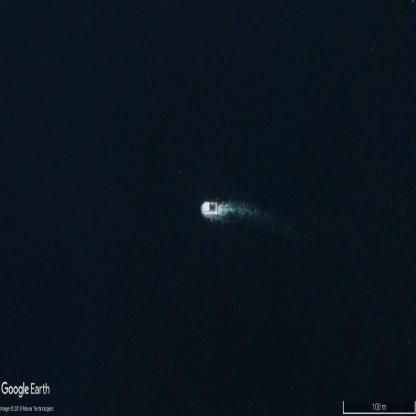ship: (201, 201, 218, 215)
